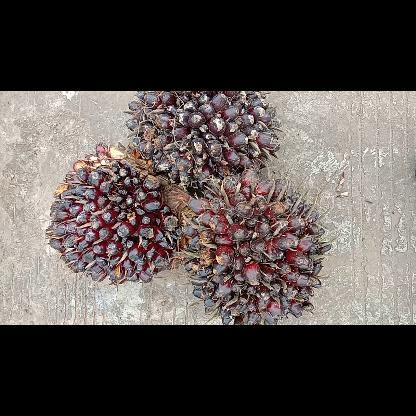TBS mentah: (179, 168, 333, 324), (43, 140, 199, 288), (121, 90, 283, 186)
